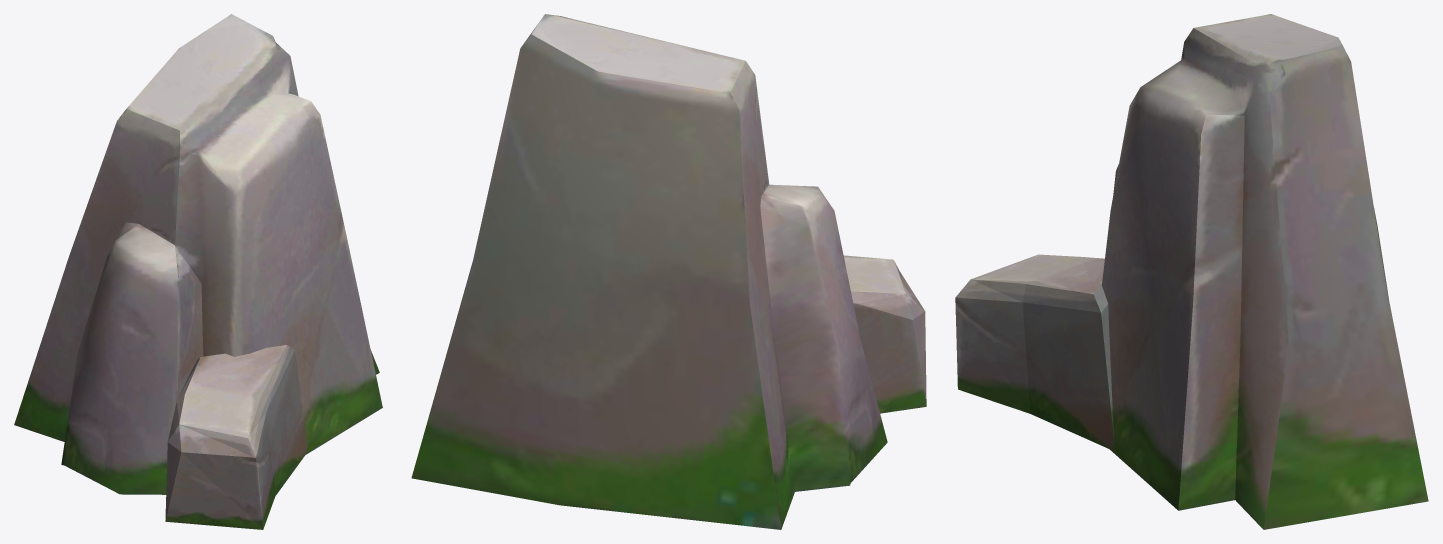
Rendered from ZhuCheng_Shitou_01.fbx.
3 views of the same model, side by side, from view 1: azimuth 30°, elevation 25°; view 2: azimuth 150°, elevation 25°; view 3: azimuth 270°, elevation 25° (orthographic). The views are drawn at different scales.
Visible parts, largest first — view 1: ZhuCheng_Shitou_01; view 2: ZhuCheng_Shitou_01; view 3: ZhuCheng_Shitou_01.
Boxes of the visible parts, bbox=[...] form: ZhuCheng_Shitou_01: bbox=[14, 14, 382, 529]; ZhuCheng_Shitou_01: bbox=[411, 14, 926, 529]; ZhuCheng_Shitou_01: bbox=[955, 14, 1428, 529].
Size of the model in its own units: 2.75 by 2.86 by 2.92.
